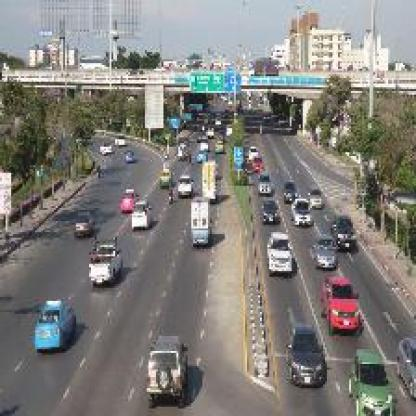other: (319, 269, 370, 330), (114, 184, 136, 218)
